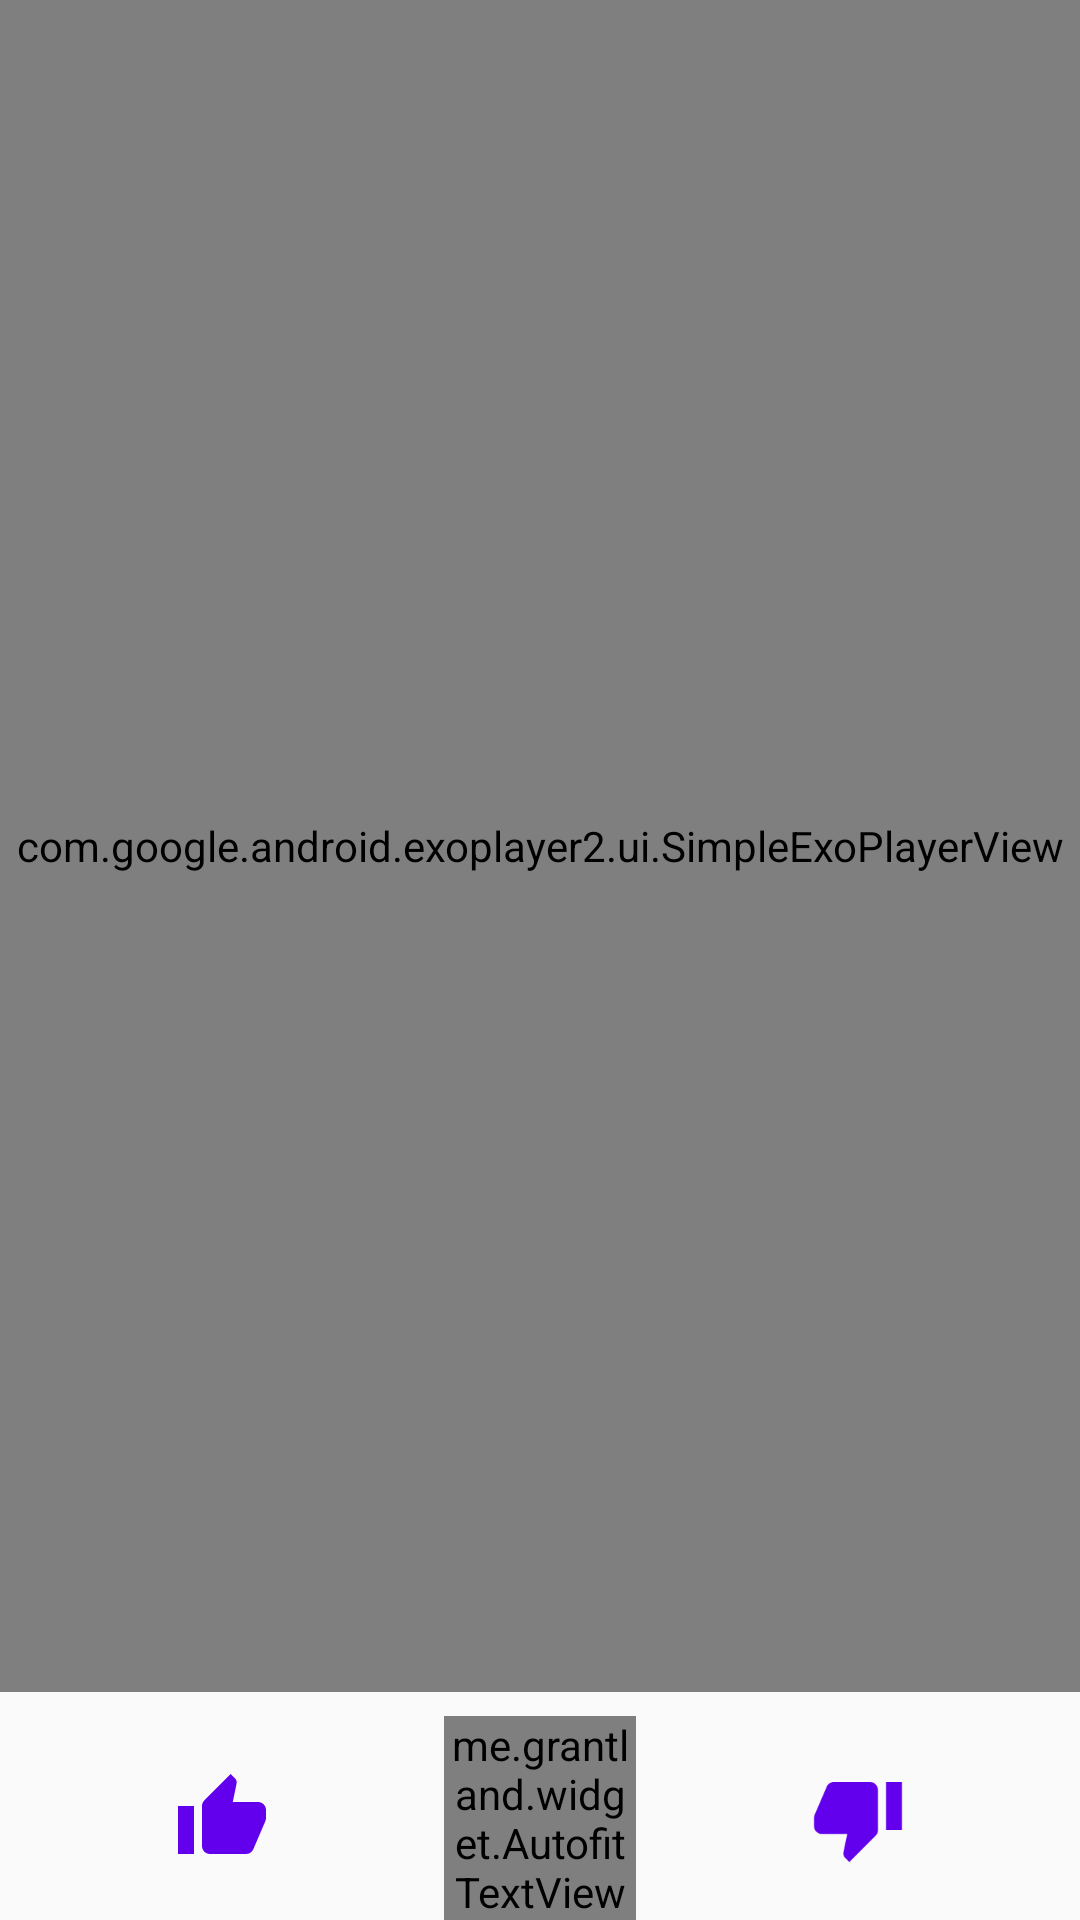

Icon bounding boxes for this 1080×1920 phone screenshot, format (left=x1, top=y1, right=x2, bottom=y2):
thumb down: (left=813, top=1782, right=903, bottom=1862)
thumb up: (left=178, top=1774, right=266, bottom=1854)
